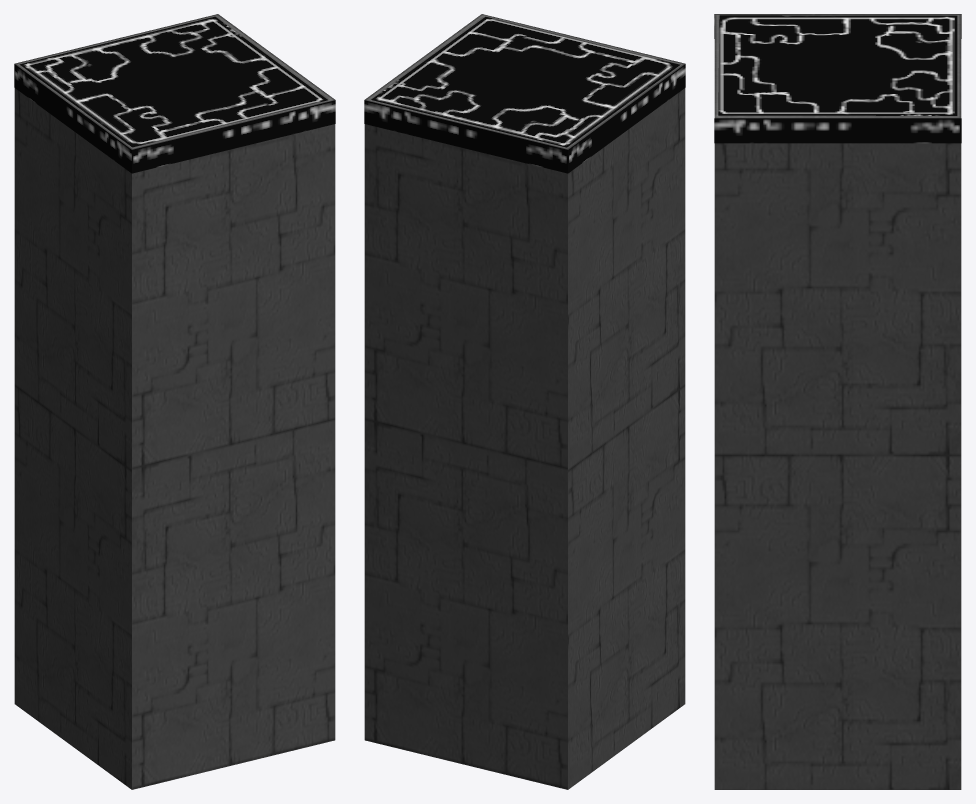
The model's file is lv8_step.dae.
3 renders of one model, left to right at view 1: azimuth 30°, elevation 25°; view 2: azimuth 150°, elevation 25°; view 3: azimuth 270°, elevation 25°, orthographic. The views are drawn at different scales.
Parts seen in each view (by area): view 1: Shape 1, Shape 0; view 2: Shape 1, Shape 0; view 3: Shape 1, Shape 0.
Boxes of the visible parts, x1=… form: Shape 1: x1=14, y1=14, x2=335, y2=789; Shape 0: x1=14, y1=14, x2=335, y2=173; Shape 1: x1=364, y1=14, x2=685, y2=789; Shape 0: x1=364, y1=14, x2=685, y2=173; Shape 1: x1=714, y1=14, x2=961, y2=789; Shape 0: x1=714, y1=14, x2=961, y2=143.
Size of the model in its own units: 450 by 1350 by 450.
2 materials, 2 textured.
